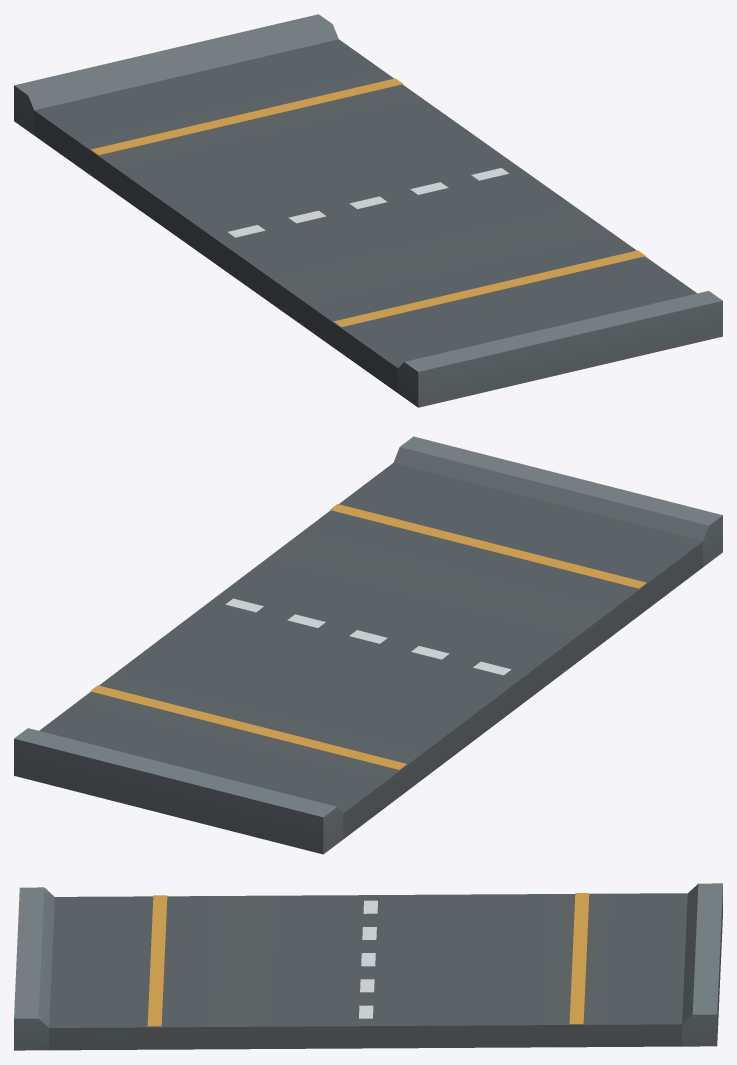
File: road22.001_lev3.glb
The picture shows the model from 3 angles, top to bottom: view 1: azimuth 30°, elevation 25°; view 2: azimuth 150°, elevation 25°; view 3: azimuth 270°, elevation 25°; orthographic projection. The views are drawn at different scales.
Parts seen in each view (by area): view 1: road_straight.021; view 2: road_straight.021; view 3: road_straight.021.
Boxes of the visible parts, box(x1,y1,x2,y2) form: road_straight.021: box(14, 14, 722, 407); road_straight.021: box(14, 436, 722, 854); road_straight.021: box(14, 883, 722, 1050).
Bounding box in the file's own units: 2.52 × 0.2768 × 5.57.
1 material, 1 textured.
